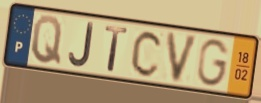C: (129, 28, 165, 79)
G: (196, 37, 231, 89)
J: (68, 21, 95, 69)
Q: (30, 14, 64, 67)
T: (103, 24, 130, 74)
V: (165, 30, 201, 85)
